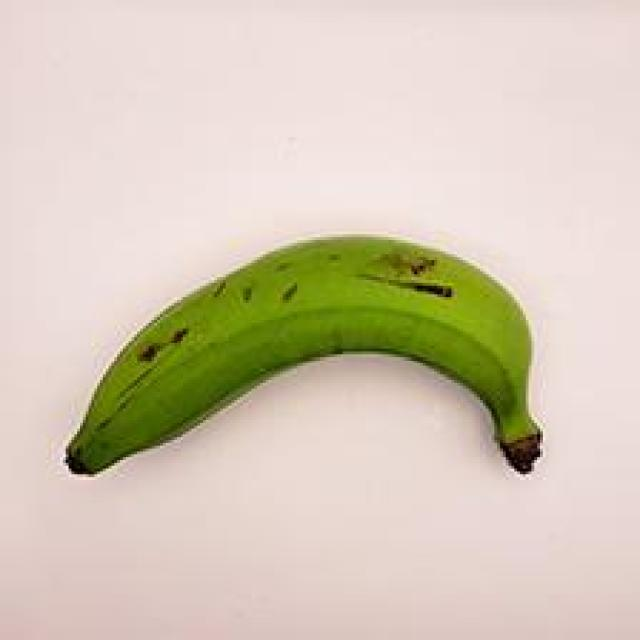Raw: (49, 182, 567, 527)
